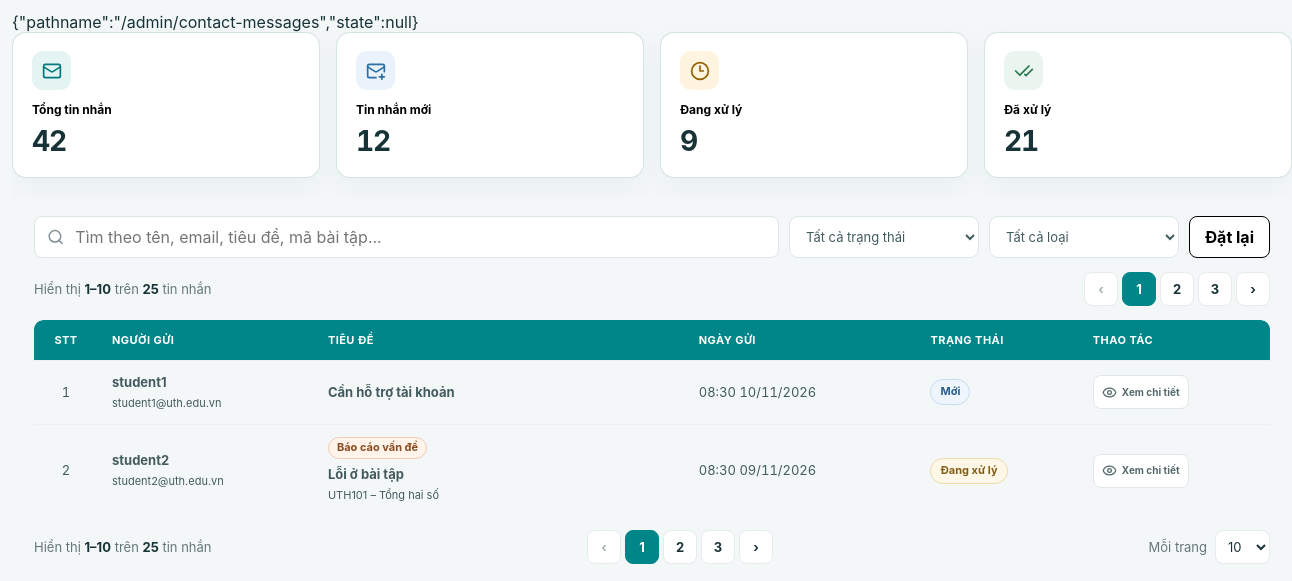
it: AdminContactMessagesPage › keeps top and bottom pagers synchronized and preserves list state when opening details
Expected: the number of navigation bars is 2, x1=1084 y1=272 x2=1270 y2=306; x1=587 y1=530 x2=773 y2=564
Click the button named "Trang sau": click(1253, 289) x1=1236 y1=272 x2=1270 y2=306
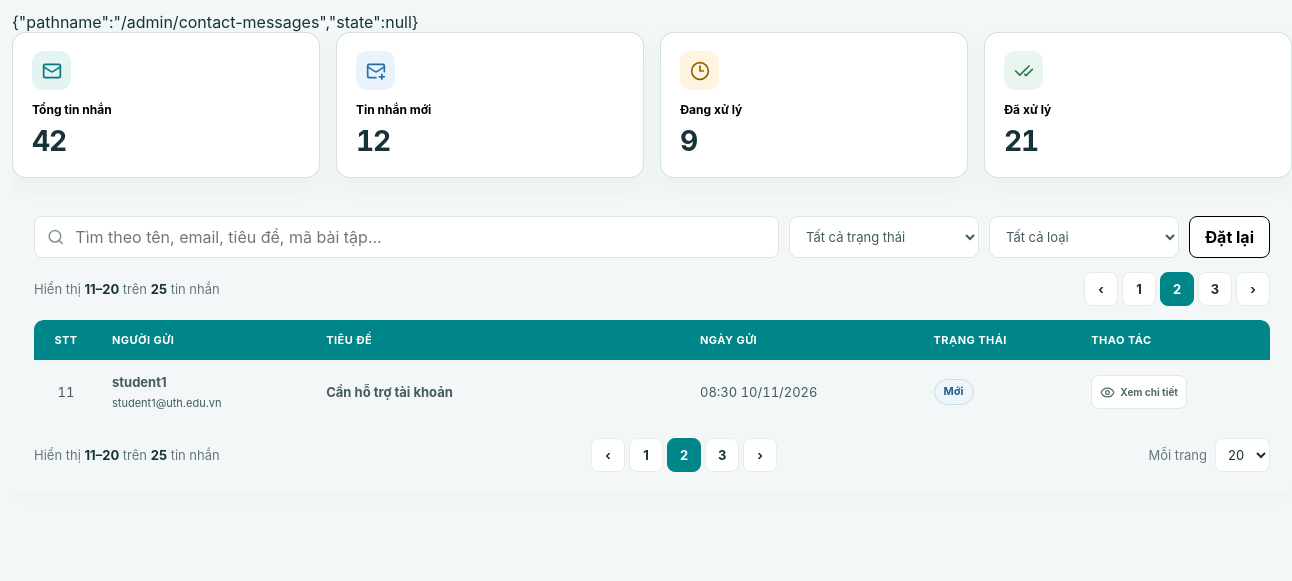
Expected: the 1st button "2" is shown, x1=1160 y1=272 x2=1194 y2=306
Expected: the button "2" in the row of "Mỗi trang" is shown, x1=667 y1=438 x2=701 y2=472
Select "20" in the dropdown labelled "Mỗi trang": (1242, 455) x1=1215 y1=438 x2=1270 y2=472
Select "20" in the dropdown labelled "Mỗi trang": (1242, 455) x1=1215 y1=438 x2=1270 y2=472
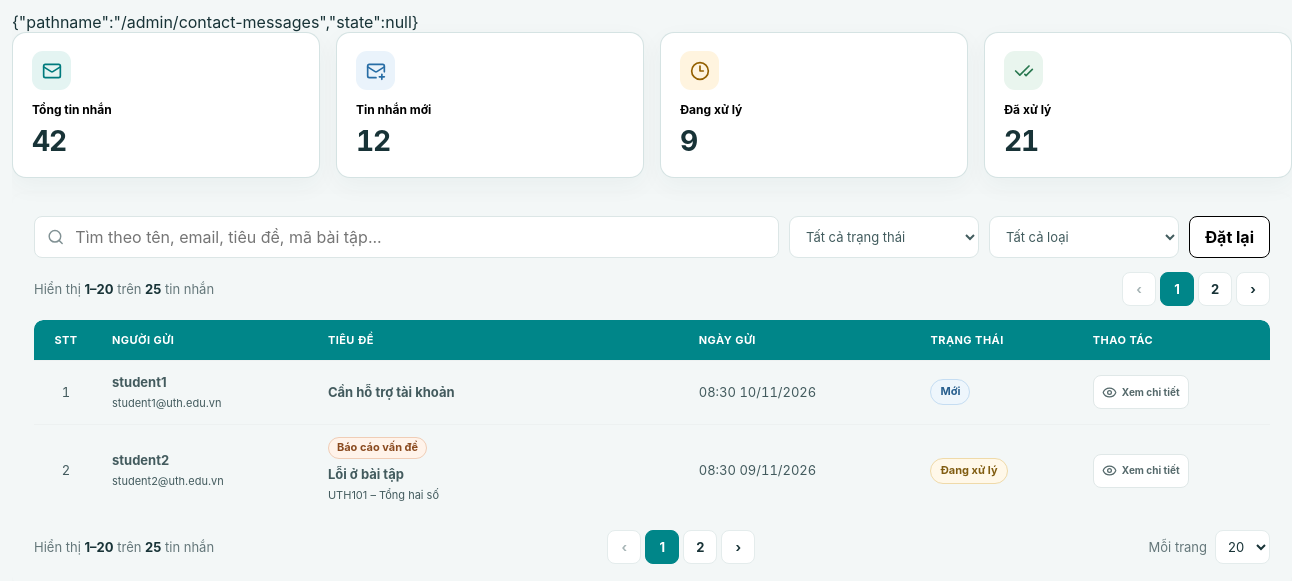
Click the button with aria-label "Xem chi tiết tin nhắn của Nguyễn Văn A": click(1141, 392) x1=1093 y1=375 x2=1188 y2=409
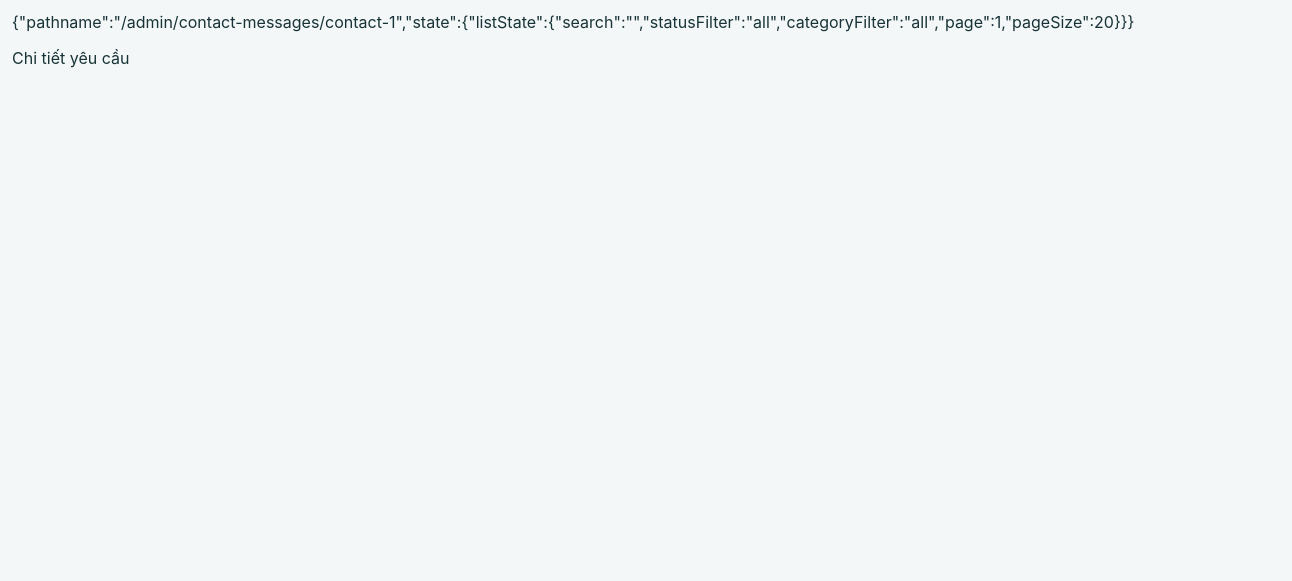
Expected: the text with test id "detail-route" reads "Chi tiết yêu cầu", x1=12 y1=48 x2=129 y2=68
